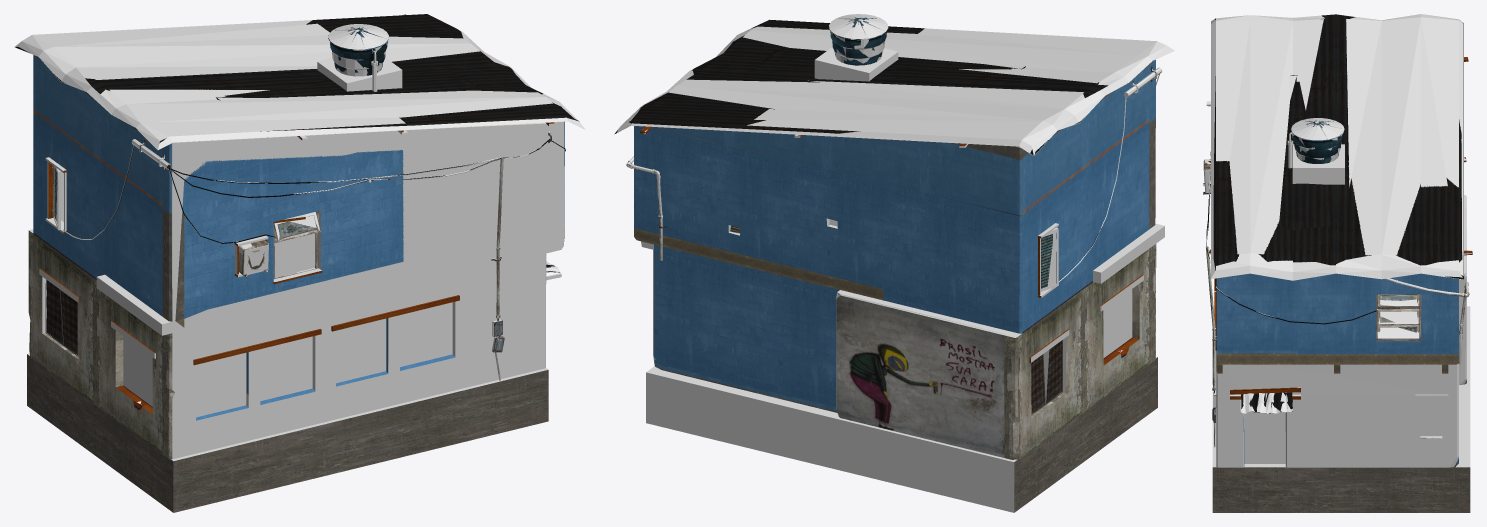
Rendered from hei_prop_heist_pic_09.fbx.
The picture shows the model from 3 angles, left to right: view 1: azimuth 30°, elevation 25°; view 2: azimuth 150°, elevation 25°; view 3: azimuth 270°, elevation 25°; orthographic projection. The views are drawn at different scales.
Visible parts, largest first — view 1: UTM_Geometry, Object_LOD0; view 2: Object_LOD0, UTM_Geometry; view 3: UTM_Geometry, Object_LOD0.
Boxes of the visible parts, x1,y1,x2,y2 form: UTM_Geometry: [14, 19, 585, 461]; Object_LOD0: [15, 14, 579, 512]; Object_LOD0: [615, 17, 1161, 512]; UTM_Geometry: [616, 14, 1174, 512]; UTM_Geometry: [1203, 14, 1472, 467]; Object_LOD0: [1203, 14, 1472, 512].
Bounding box in the file's own units: 1321 × 1120 × 819.
